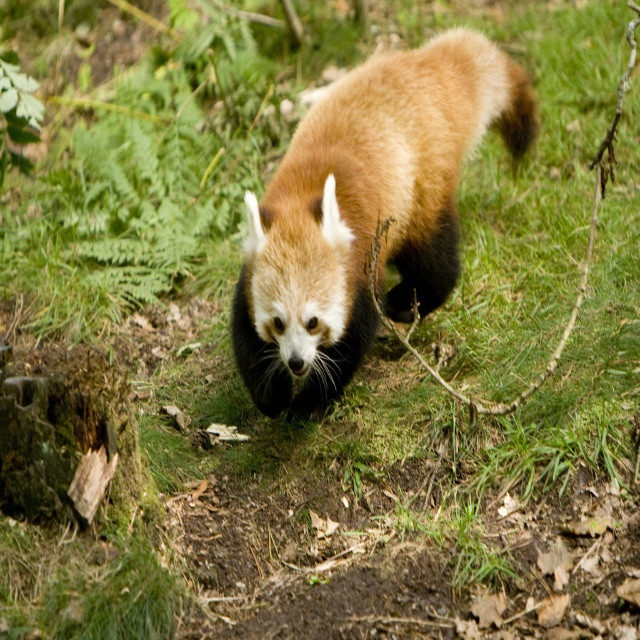Bear: (229, 21, 544, 421)
